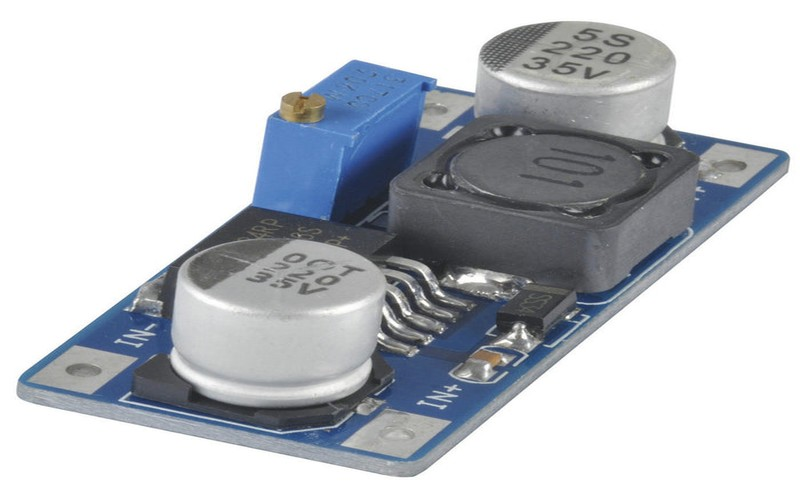Regulator: (110, 22, 702, 432)
